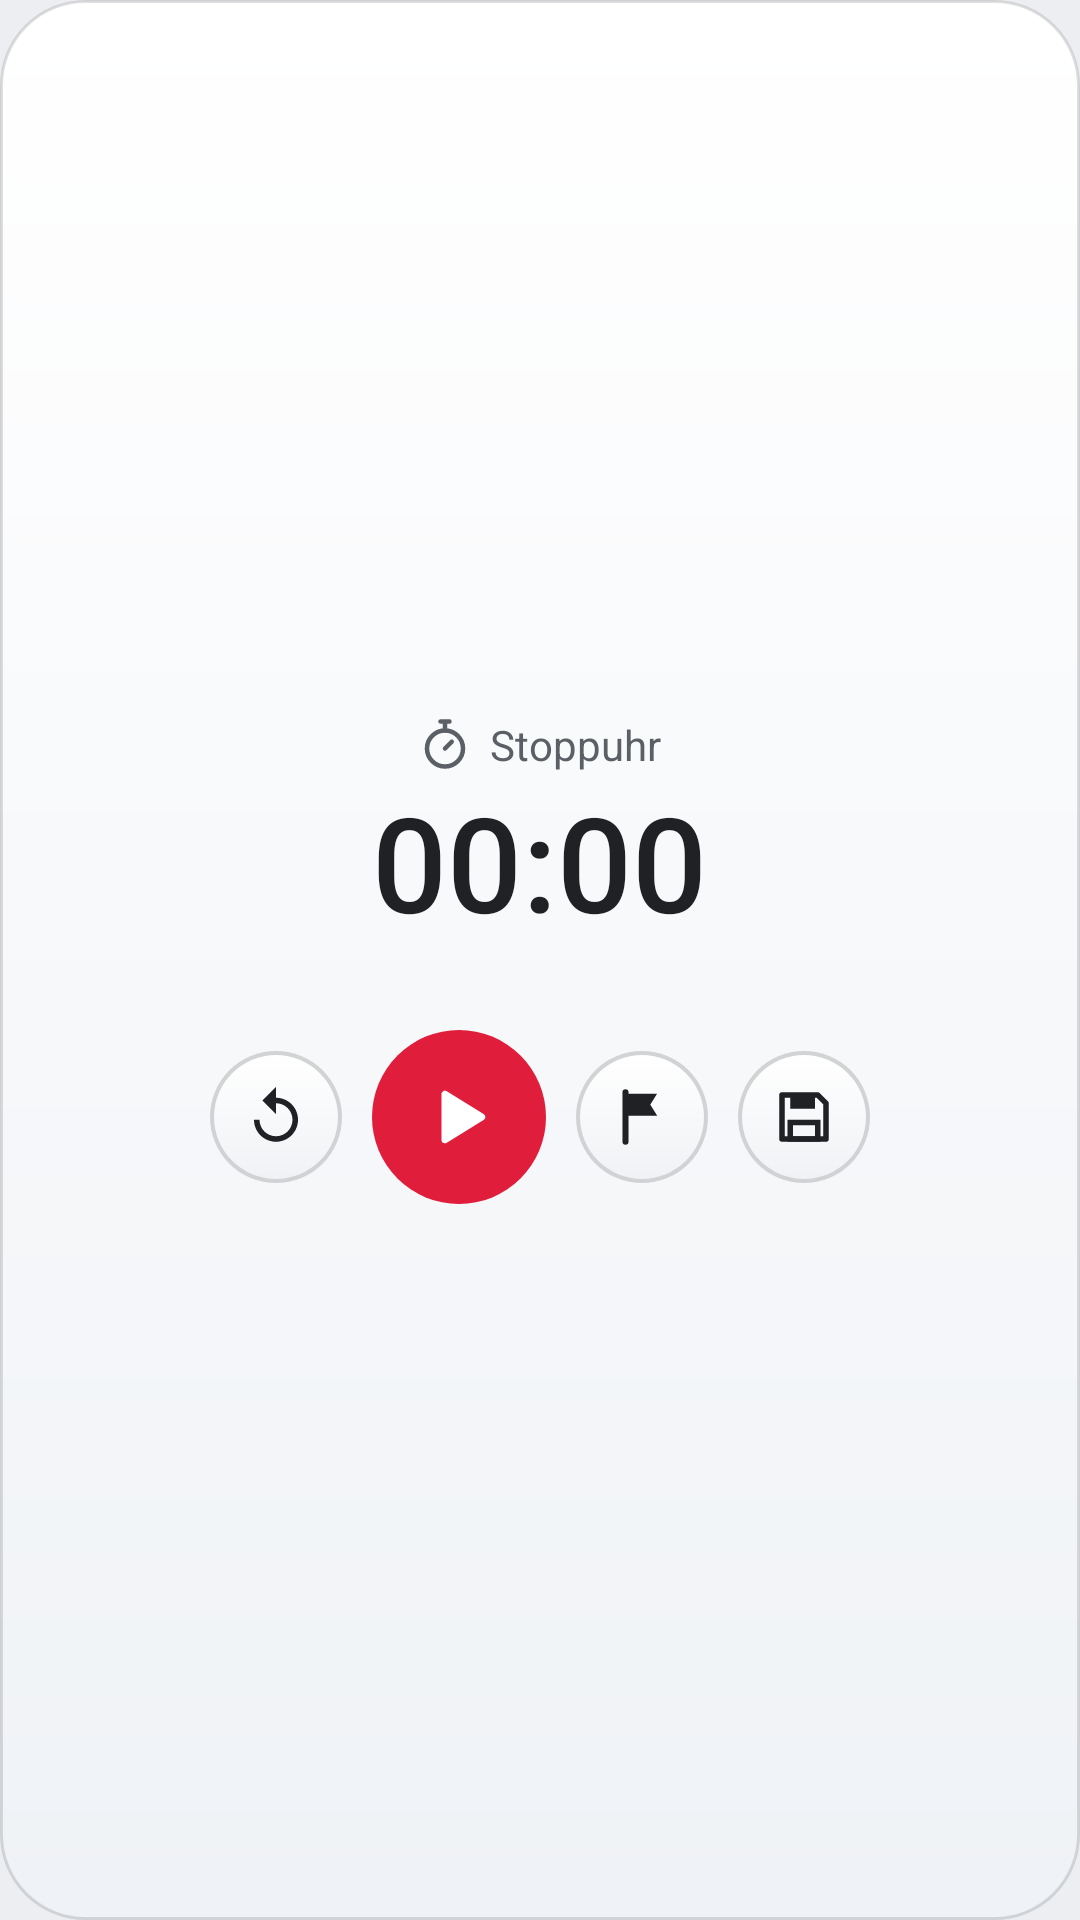

Icons on this 1080×1920 Android screen, each with the point to tap as (x=x, y=y):
Runde: (x=642, y=1117)
Start oder Stopp: (x=459, y=1117)
Zeit speichern: (x=804, y=1117)
Zurücksetzen: (x=276, y=1117)
